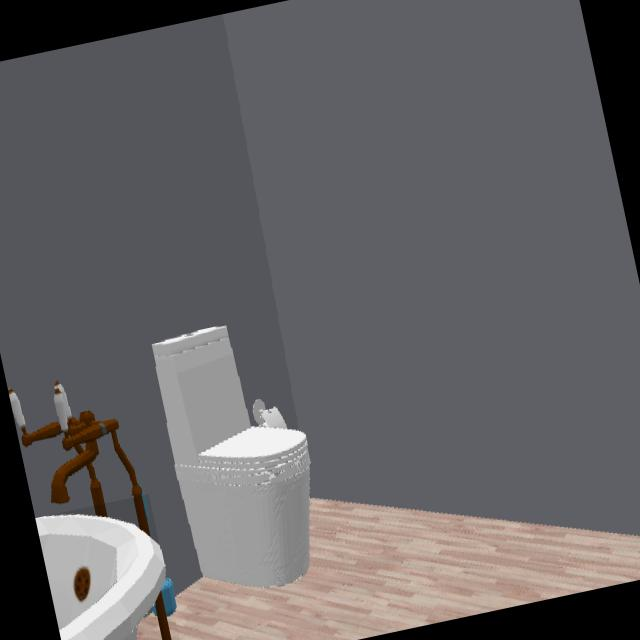bathtube: (35, 514, 167, 640)
toilet: (151, 326, 311, 587)
